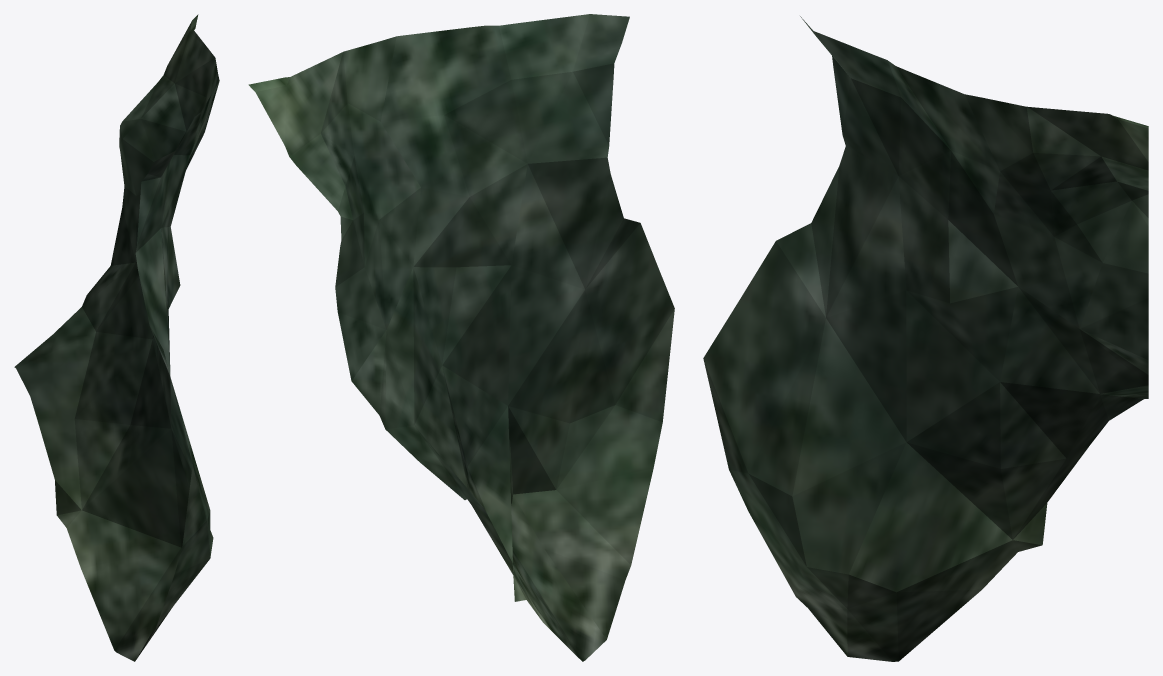
The picture shows the model from 3 angles, left to right: view 1: azimuth 30°, elevation 25°; view 2: azimuth 150°, elevation 25°; view 3: azimuth 270°, elevation 25°; orthographic projection. The views are drawn at different scales.
Bounding box in the file's own units: 0.7947 × 2.14 × 1.33.
Materials: 1 (1 with a texture image).
